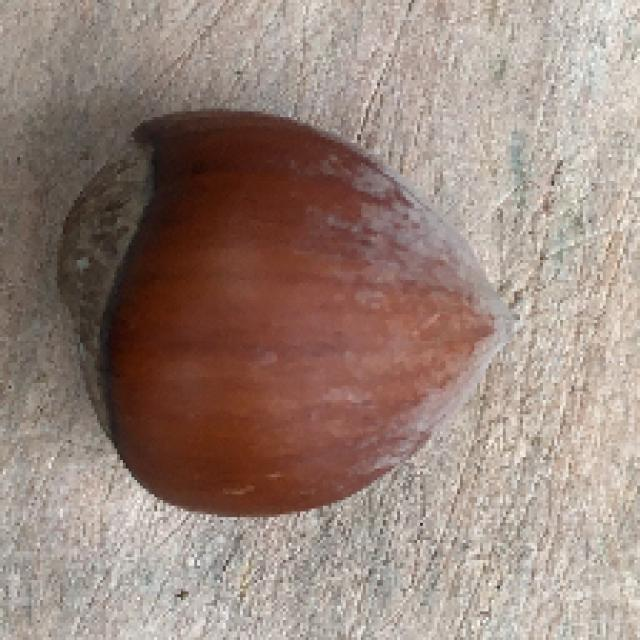qualityHazelnut: (42, 104, 505, 531)
